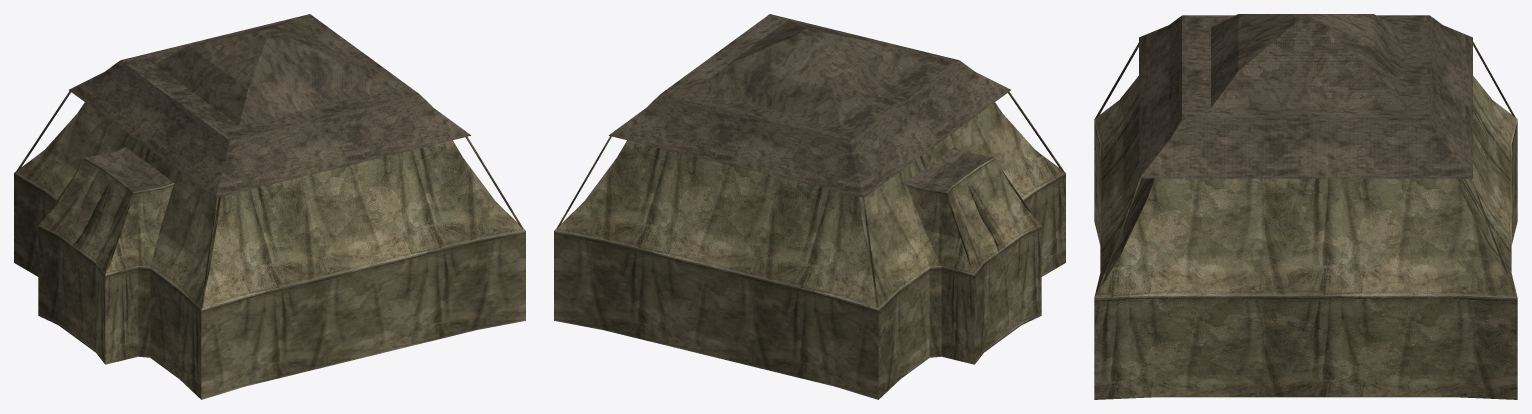
File: eqp_camping_tent_s3_l0.fbx
The picture shows the model from 3 angles, left to right: view 1: azimuth 30°, elevation 25°; view 2: azimuth 150°, elevation 25°; view 3: azimuth 270°, elevation 25°; orthographic projection. The views are drawn at different scales.
Parts seen in each view (by area): view 1: mesh_node; view 2: mesh_node; view 3: mesh_node.
Boxes of the visible parts, x1,y1,x2,y2 form: mesh_node: (14,14,525,399); mesh_node: (554,14,1065,399); mesh_node: (1094,14,1517,399).
Size of the model in its own units: 6.22 by 4.25 by 5.6.
